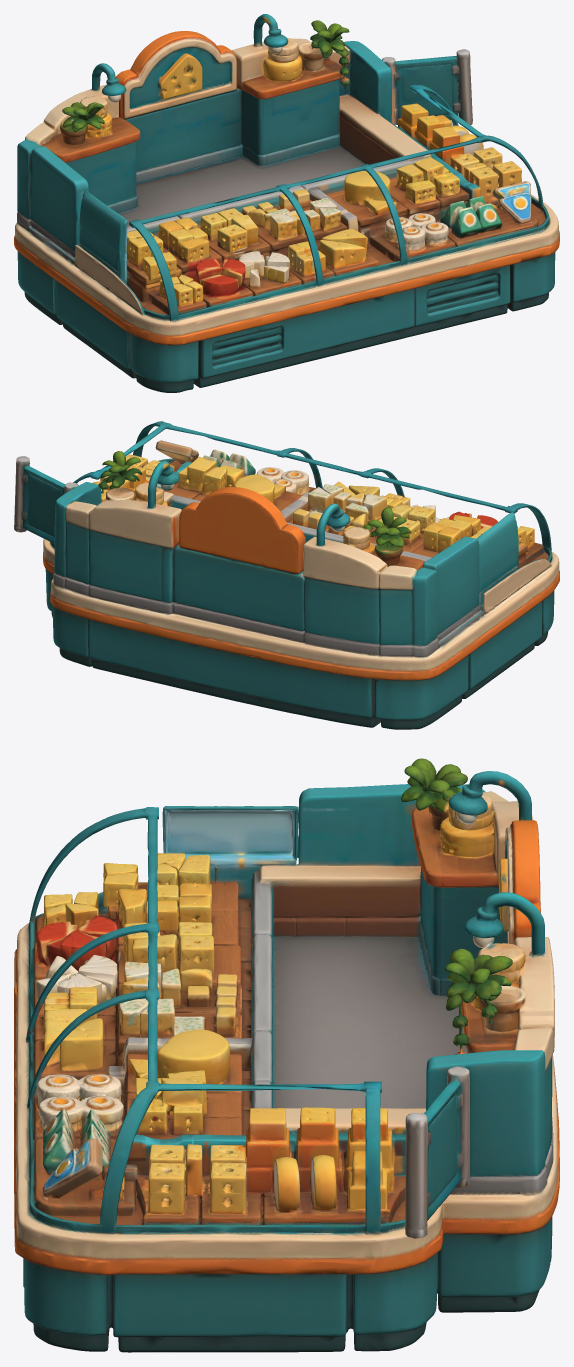
The model's file is CheeseDisplay.fbx.
The picture shows the model from 3 angles, top to bottom: view 1: azimuth 30°, elevation 25°; view 2: azimuth 150°, elevation 25°; view 3: azimuth 270°, elevation 25°; orthographic projection. The views are drawn at different scales.
Visible parts, largest first — view 1: tripo_node_993acae5-227d-4645-8d50-4d0907f58f58; view 2: tripo_node_993acae5-227d-4645-8d50-4d0907f58f58; view 3: tripo_node_993acae5-227d-4645-8d50-4d0907f58f58.
Boxes of the visible parts, <box> form: tripo_node_993acae5-227d-4645-8d50-4d0907f58f58: <box>14,14,559,392</box>; tripo_node_993acae5-227d-4645-8d50-4d0907f58f58: <box>14,421,559,729</box>; tripo_node_993acae5-227d-4645-8d50-4d0907f58f58: <box>14,758,559,1352</box>.
Bounding box in the file's own units: 98.02 × 45.22 × 64.99.
Materials: 1 (1 with a texture image).
